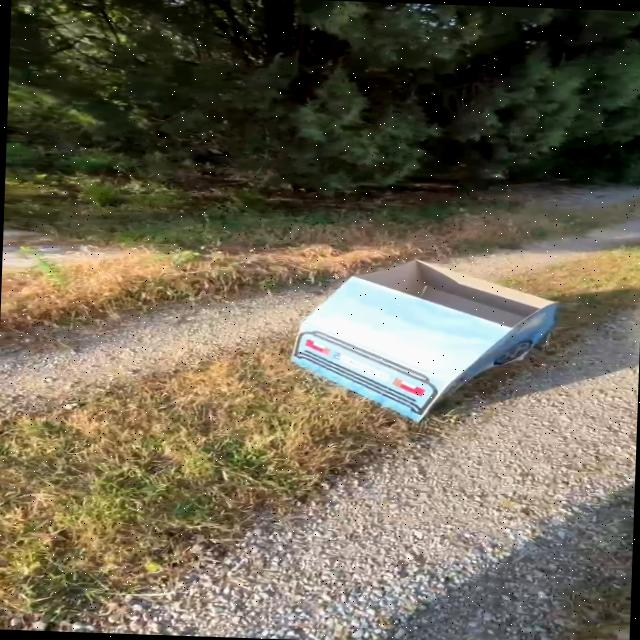blue_car: (236, 232, 590, 450)
